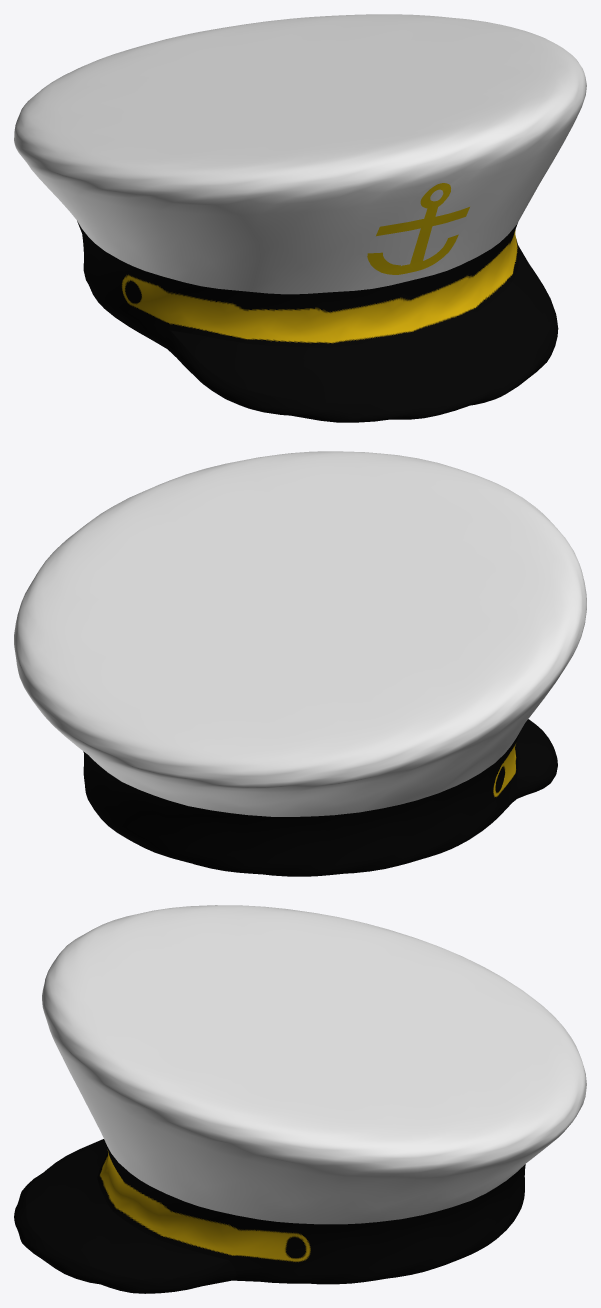
Rendered from SailorHat.fbx.
3 renders of one model, top to bottom at view 1: azimuth 30°, elevation 25°; view 2: azimuth 150°, elevation 25°; view 3: azimuth 270°, elevation 25°, orthographic. The views are drawn at different scales.
Visible parts, largest first — view 1: m_CaptainsHat01; view 2: m_CaptainsHat01; view 3: m_CaptainsHat01.
Boxes of the visible parts, <box> form: m_CaptainsHat01: <box>14,14,586,422</box>; m_CaptainsHat01: <box>14,451,586,876</box>; m_CaptainsHat01: <box>14,905,586,1293</box>.
Bounding box in the file's own units: 609 × 293 × 629.
3 materials, 1 textured.
